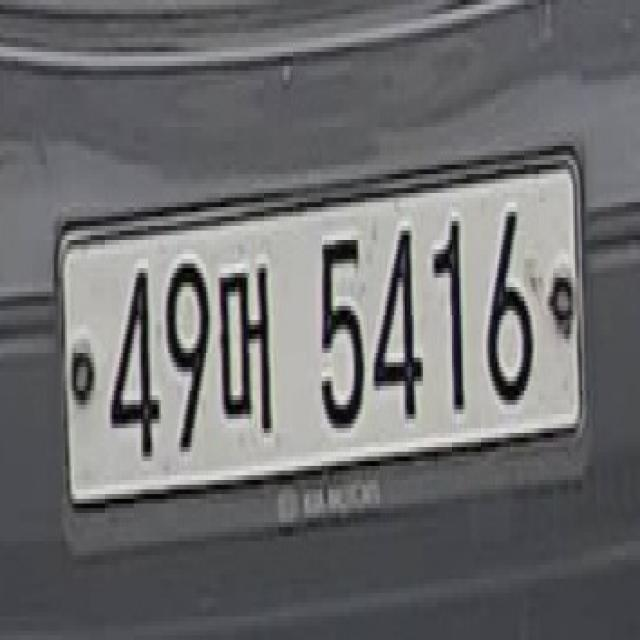1: (432, 209, 466, 428)
4: (101, 252, 165, 478), (369, 203, 427, 430)
5: (314, 217, 368, 447)
6: (486, 178, 544, 424)
9: (166, 243, 216, 462)
license_plate: (58, 135, 586, 548)
meo: (218, 241, 283, 456)
